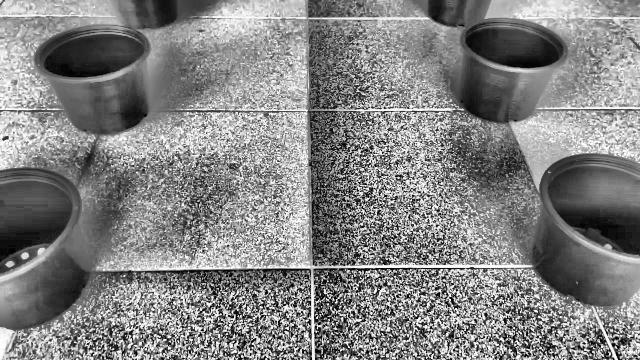pot: (531, 154, 640, 306), (0, 168, 92, 347), (34, 25, 152, 136), (458, 19, 569, 124)
